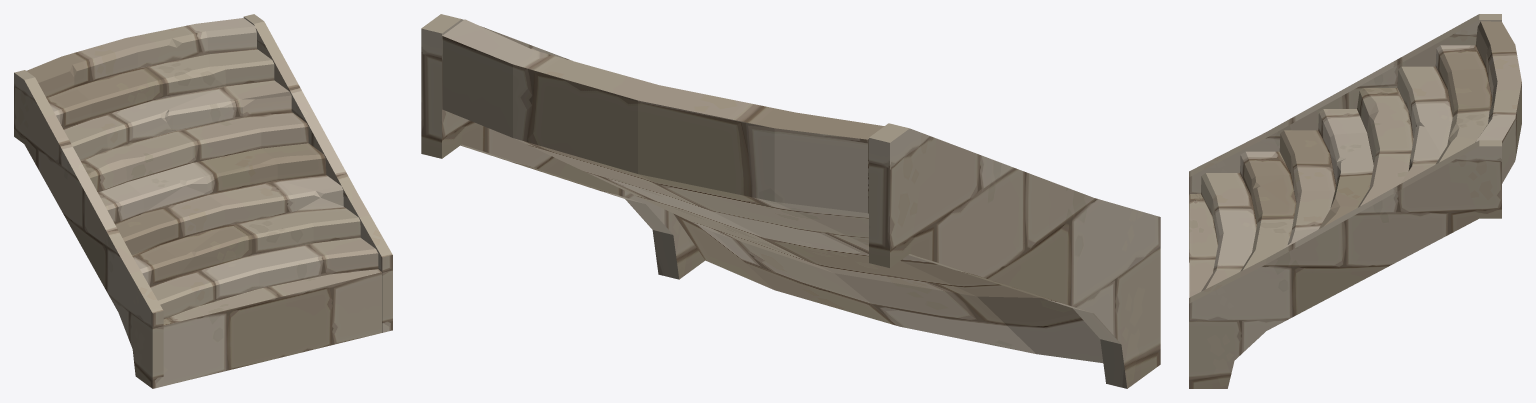
Rendered from SM_Bld_Stairs_01.fbx.
3 views of the same model, side by side, from view 1: azimuth 30°, elevation 25°; view 2: azimuth 150°, elevation 25°; view 3: azimuth 270°, elevation 25° (orthographic). The views are drawn at different scales.
Parts seen in each view (by area): view 1: SM_Bld_Stairs_01; view 2: SM_Bld_Stairs_01; view 3: SM_Bld_Stairs_01.
Boxes of the visible parts, box(x1,y1,x2,y2) form: SM_Bld_Stairs_01: box(14, 14, 392, 388); SM_Bld_Stairs_01: box(421, 14, 1160, 388); SM_Bld_Stairs_01: box(1189, 14, 1521, 388).
Bounding box in the file's own units: 250 × 214 × 266.
